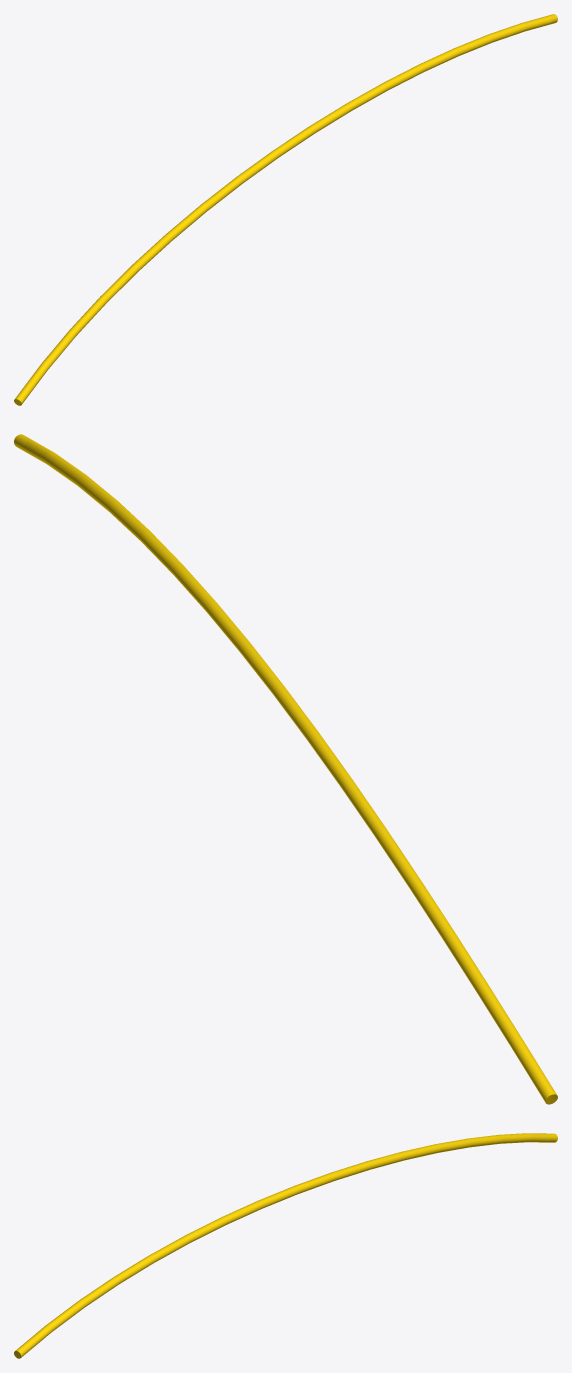
Rendered from Event_421278790_track_9.fbx.
3 views of the same model, one above another, from view 1: azimuth 90°, elevation 25°; view 2: azimuth 150°, elevation 25°; view 3: azimuth 270°, elevation 25° (orthographic). The views are drawn at different scales.
Visible parts, largest first — view 1: Model; view 2: Model; view 3: Model.
Boxes of the visible parts, x1=… form: Model: x1=14, y1=14, x2=557, y2=405; Model: x1=14, y1=434, x2=557, y2=1104; Model: x1=14, y1=1133, x2=557, y2=1358.
Bounding box in the file's own units: 3.13 × 0.5554 × 2.38.
